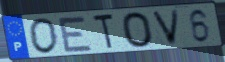6: (188, 8, 212, 44)
E: (56, 16, 95, 54)
O: (120, 10, 155, 49), (27, 17, 60, 55)
T: (91, 12, 116, 51)
V: (149, 8, 181, 47)
